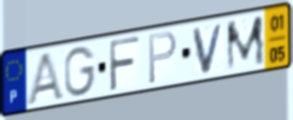A: (25, 49, 67, 106)
F: (107, 35, 142, 94)
G: (62, 45, 98, 99)
M: (225, 13, 267, 73)
P: (147, 29, 179, 87)
V: (191, 20, 227, 76)
